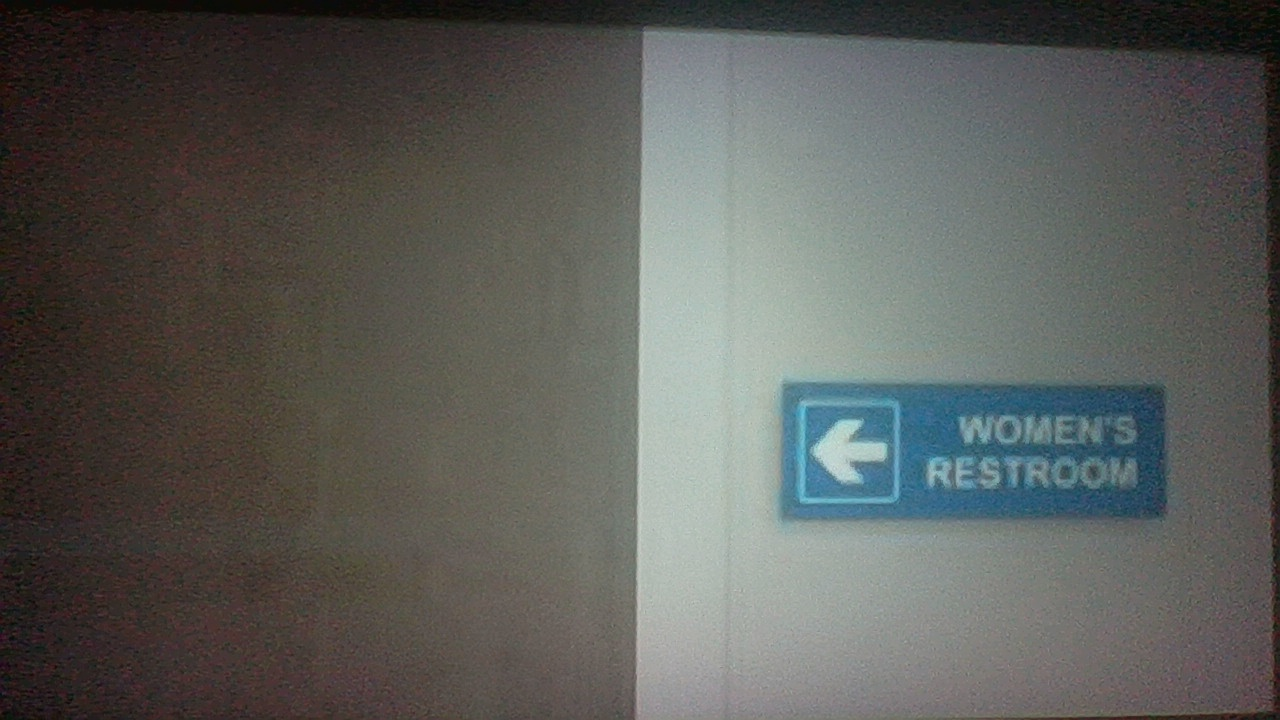womens_restroom: (767, 368, 1190, 534)
